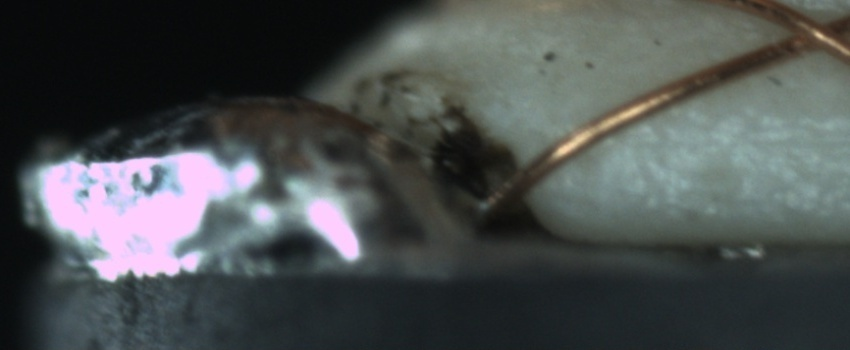CL: (766, 2, 849, 63)
DL: (628, 112, 849, 164)
